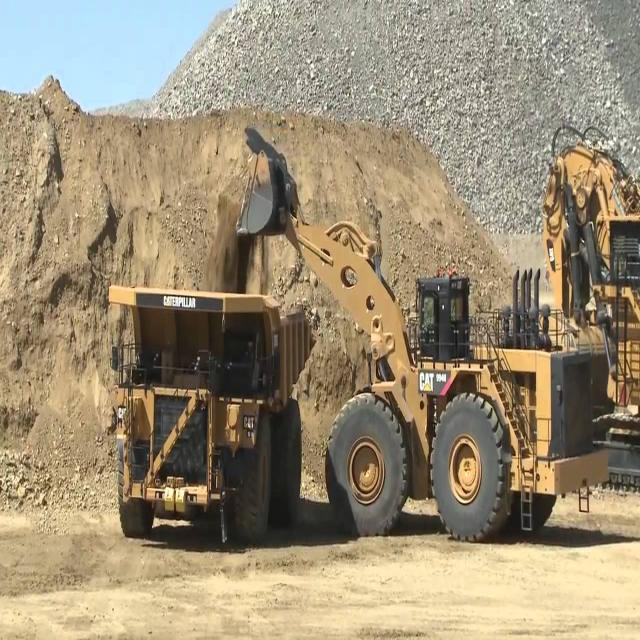buldozerpayloadergrader: (237, 118, 627, 559)
dump_truck: (103, 274, 315, 586)
